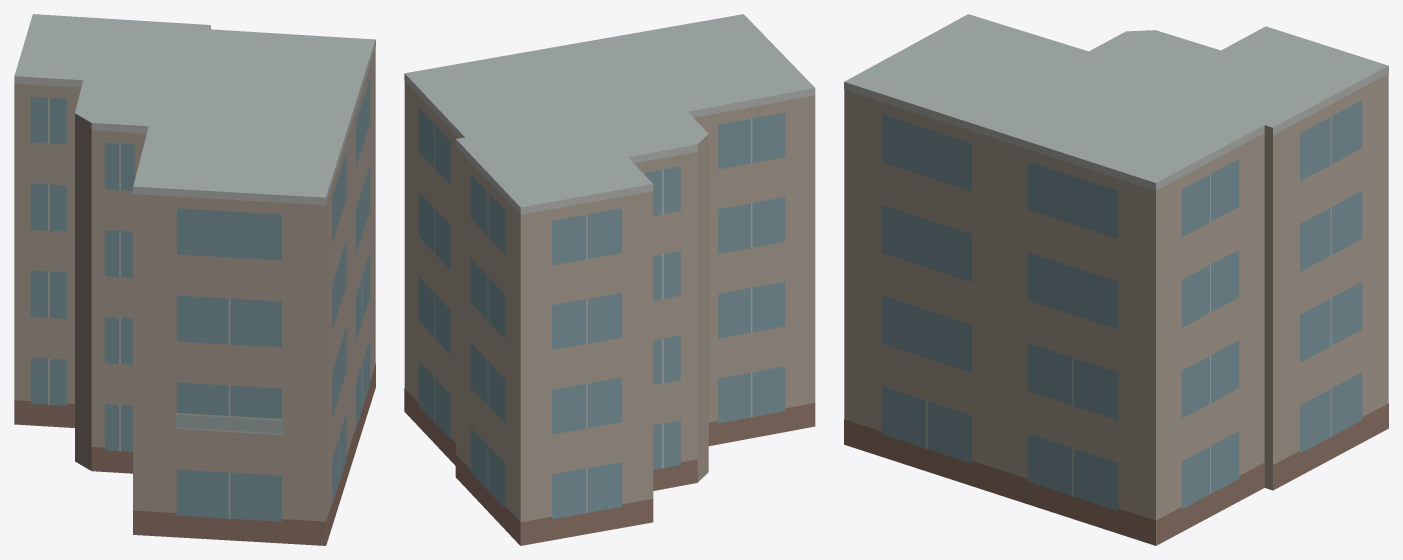
Rendered from survey-upis-32654947.glb.
3 views of the same model, side by side, from view 1: azimuth 30°, elevation 25°; view 2: azimuth 150°, elevation 25°; view 3: azimuth 270°, elevation 25° (orthographic). The views are drawn at different scales.
Visible parts, largest first — view 1: survey-upis-32654947.tmp; view 2: survey-upis-32654947.tmp; view 3: survey-upis-32654947.tmp.
Boxes of the visible parts, left/top/right/bottom form: survey-upis-32654947.tmp: left=14, top=14, right=375, bottom=545; survey-upis-32654947.tmp: left=404, top=14, right=815, bottom=545; survey-upis-32654947.tmp: left=844, top=14, right=1388, bottom=545.
Bounding box in the file's own units: 11.34 × 11.34 × 15.44.
